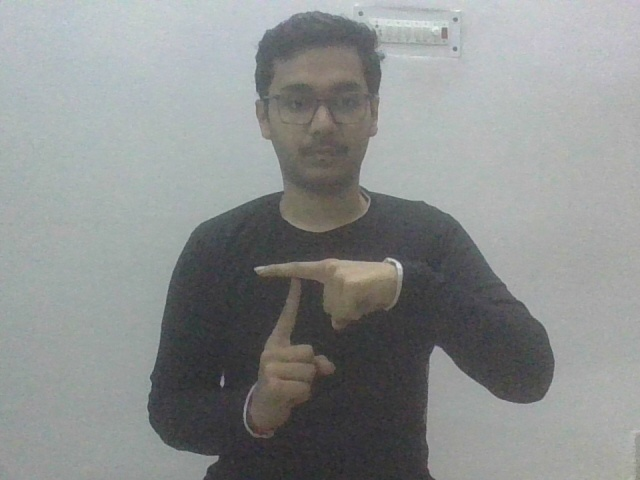T: (245, 247, 407, 436)
